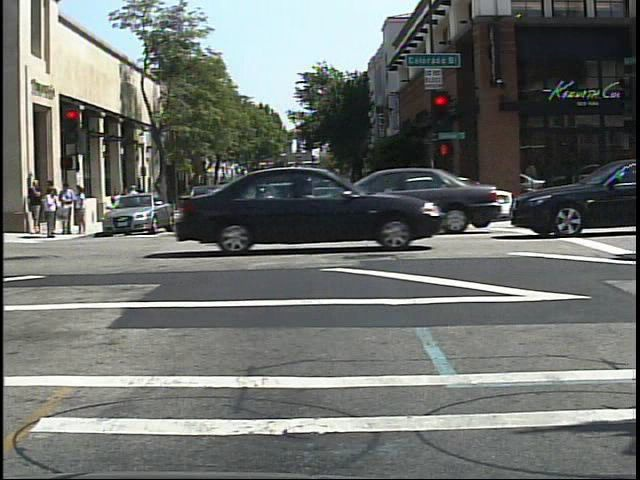person: (123, 181, 142, 221), (135, 181, 151, 218)
